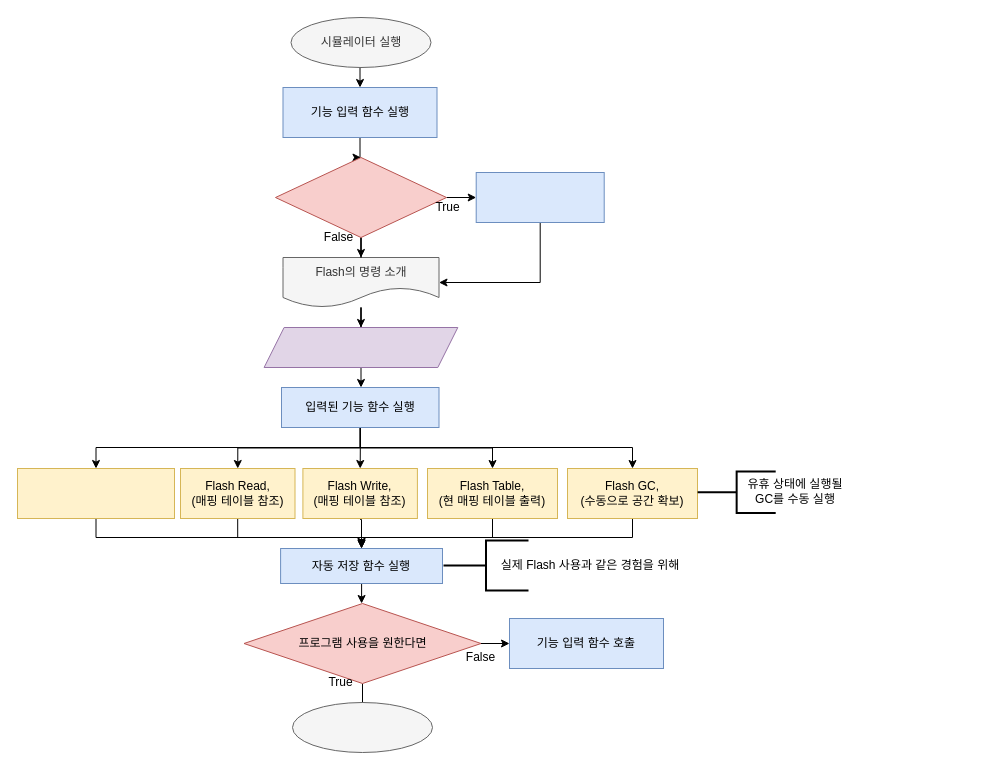
This 987x770 diagram has some shape labels left out. Here are the shapes that lost their labels. From the top down, the box of each, then its label:
(274, 156, 446, 238): 기저장 데이터가 존재할경우
(475, 172, 604, 222): 저장된 파일의 Memory Size, Table, Data 복구
(263, 326, 458, 368): 테스트하고자 하는 명령 입력
(16, 468, 174, 518): Flash 공간 할당, 매핑 테이블 정적/동적 정의
(292, 702, 432, 752): 시뮬레이터 종료
